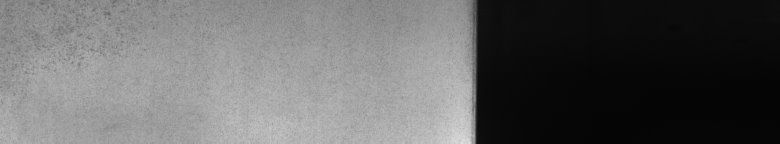ib: (16, 4, 128, 71)
